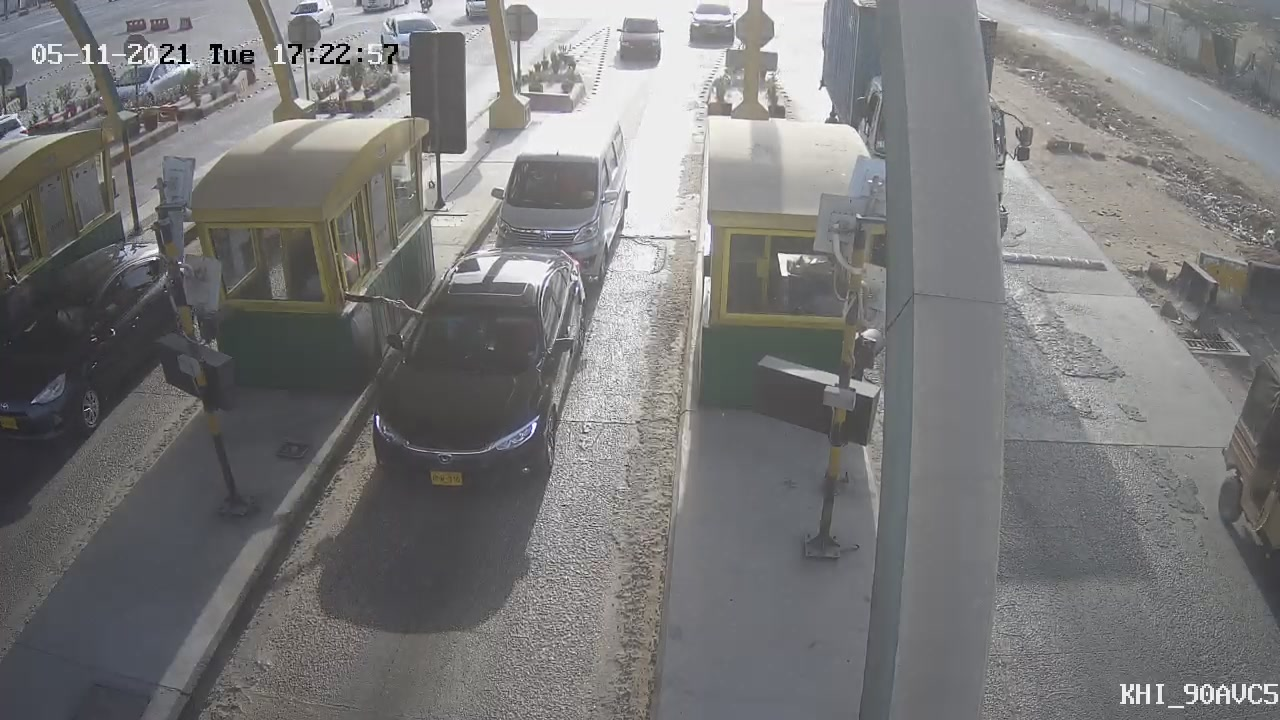F1: (371, 244, 591, 504), (464, 105, 648, 290)
